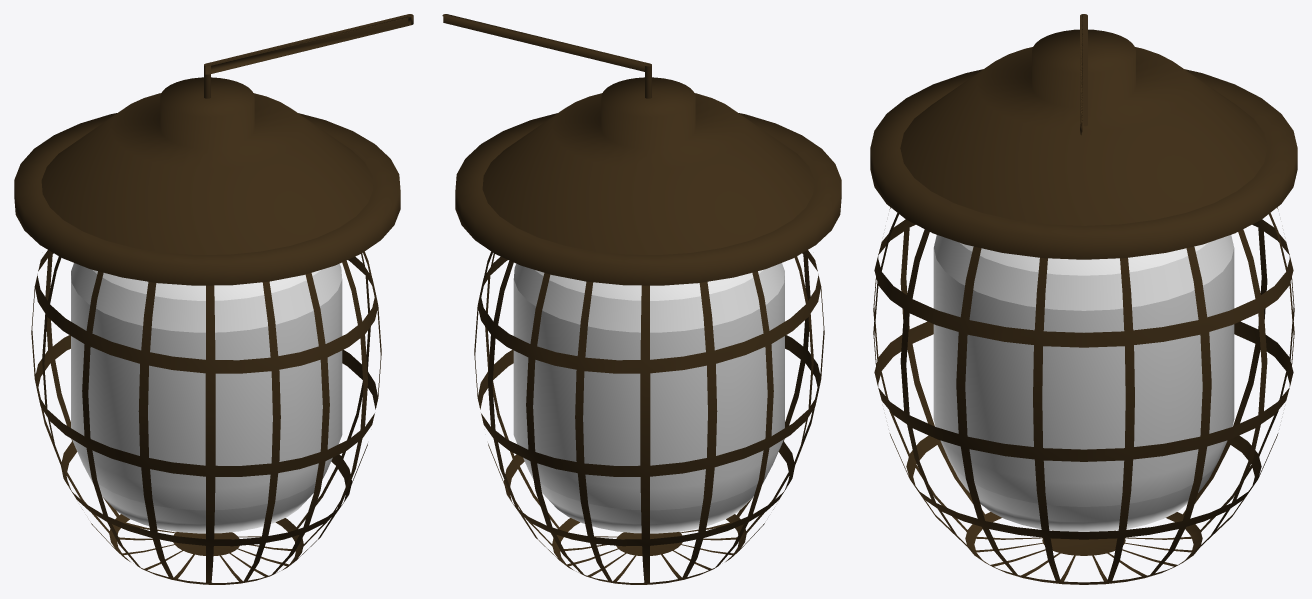
Rendered from лампочка под потолок.fbx.
The picture shows the model from 3 angles, left to right: view 1: azimuth 30°, elevation 25°; view 2: azimuth 150°, elevation 25°; view 3: azimuth 270°, elevation 25°; orthographic projection. The views are drawn at different scales.
Visible parts, largest first — view 1: Circle_005; view 2: Circle_005; view 3: Circle_005.
Boxes of the visible parts, left/top/right/bottom form: Circle_005: left=14, top=14, right=413, bottom=584; Circle_005: left=442, top=14, right=841, bottom=584; Circle_005: left=870, top=14, right=1297, bottom=584.
Bounding box in the file's own units: 0.1534 × 0.1886 × 0.1377.
